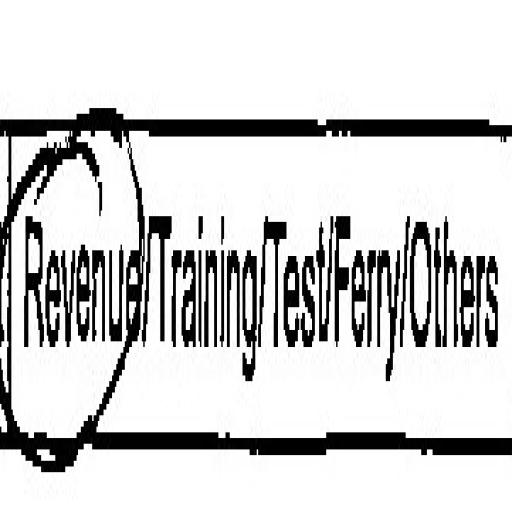check: (8, 4, 144, 512)
